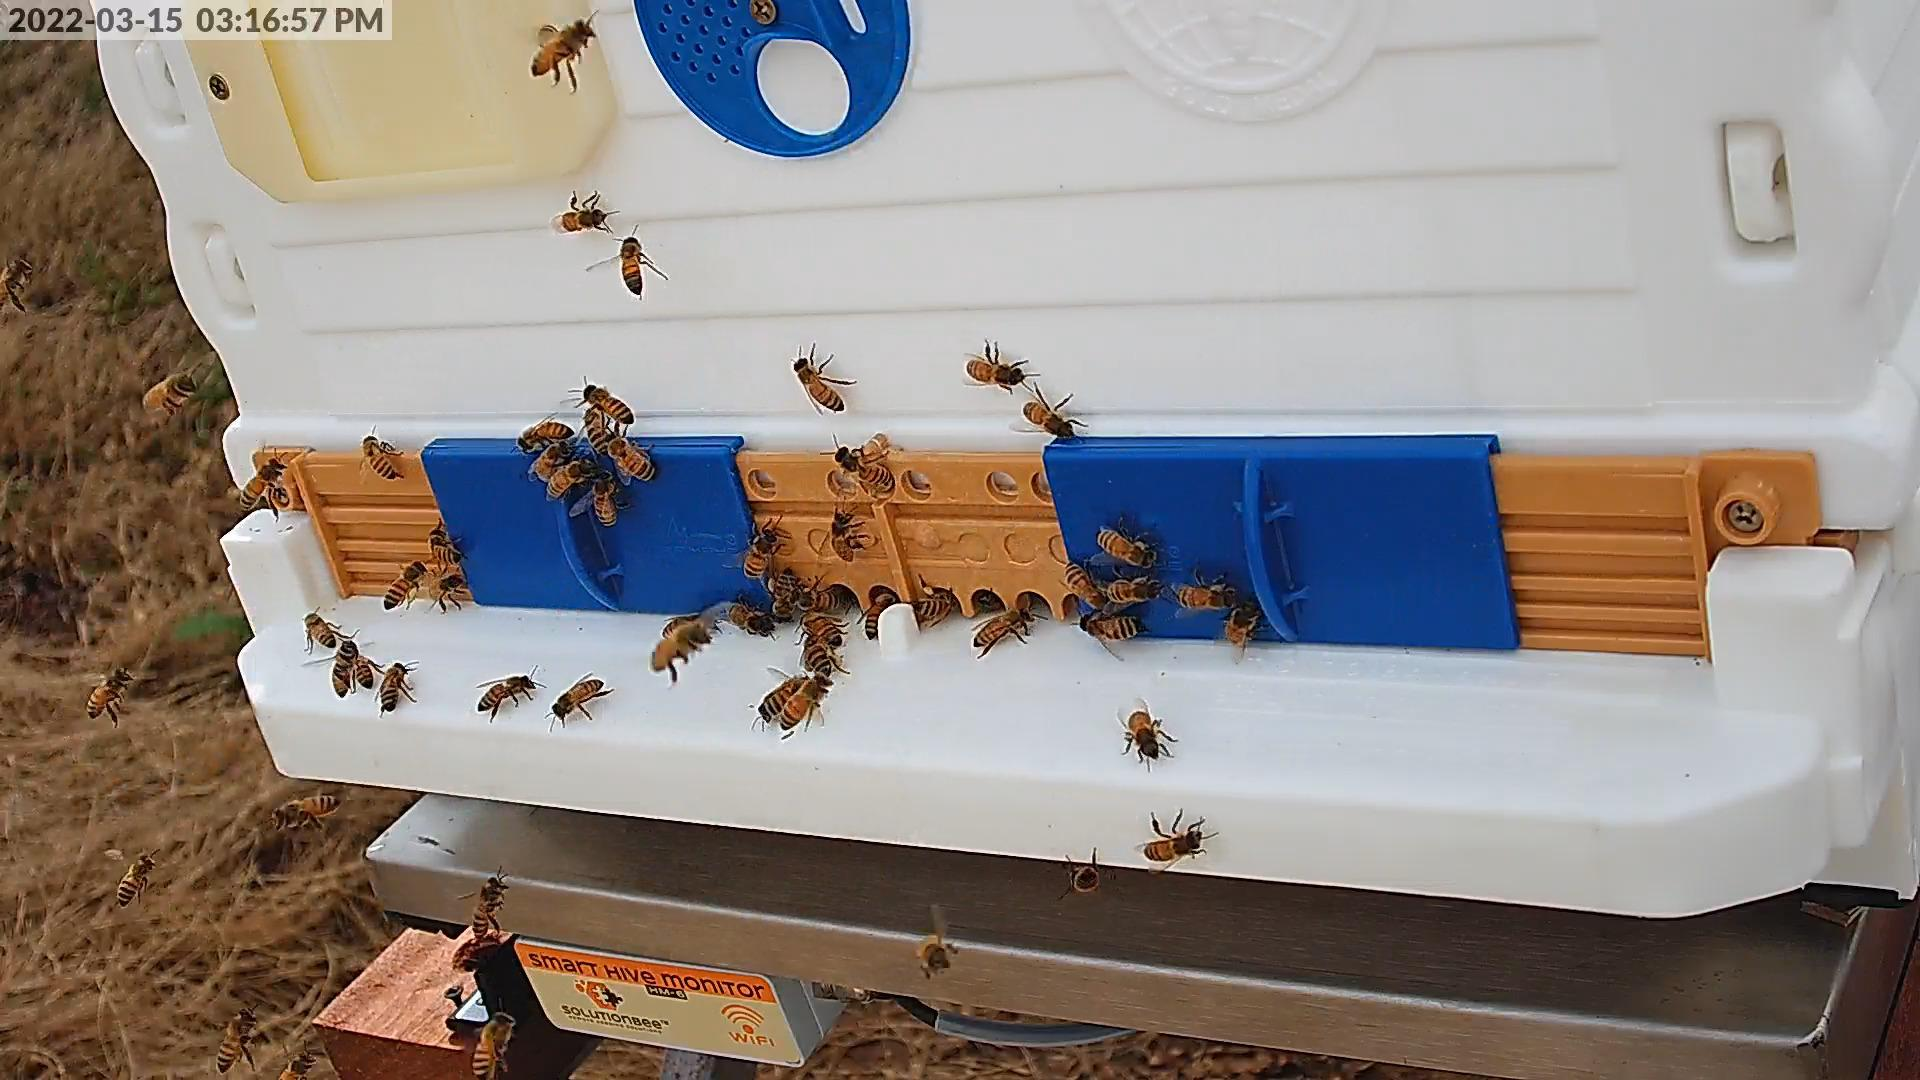bee: (531, 18, 595, 74), (471, 1010, 516, 1075), (793, 359, 847, 411), (783, 676, 833, 729), (219, 1006, 258, 1071), (654, 622, 707, 670), (973, 607, 1034, 645), (1098, 529, 1155, 567), (471, 874, 506, 935), (84, 670, 131, 716), (273, 795, 340, 827), (584, 382, 634, 423), (240, 458, 281, 508), (116, 853, 154, 906), (607, 435, 653, 479), (761, 675, 807, 719), (550, 680, 604, 717), (1064, 559, 1105, 607), (545, 460, 595, 498), (1022, 402, 1075, 438), (840, 451, 891, 487), (144, 373, 196, 407), (744, 529, 779, 579), (480, 675, 534, 708), (1146, 831, 1203, 861), (0, 258, 32, 311), (967, 360, 1025, 388), (535, 438, 571, 481), (1125, 712, 1159, 756), (621, 236, 646, 295), (517, 422, 572, 448), (724, 603, 774, 632), (593, 471, 620, 525), (380, 659, 407, 711), (864, 592, 894, 638), (363, 436, 396, 479), (800, 615, 844, 646), (799, 587, 849, 613), (334, 640, 356, 696), (832, 510, 856, 563), (1077, 615, 1137, 636), (583, 410, 612, 452), (916, 932, 948, 971), (1178, 584, 1230, 607), (662, 616, 717, 637), (1065, 858, 1100, 891), (429, 529, 462, 562), (348, 646, 375, 687), (1229, 605, 1254, 646), (303, 613, 336, 644), (427, 572, 463, 600), (1109, 582, 1158, 600), (560, 211, 605, 231), (285, 1052, 314, 1080)
pollenbee: (382, 563, 427, 611), (767, 567, 799, 618), (804, 634, 839, 678), (919, 587, 955, 621)
